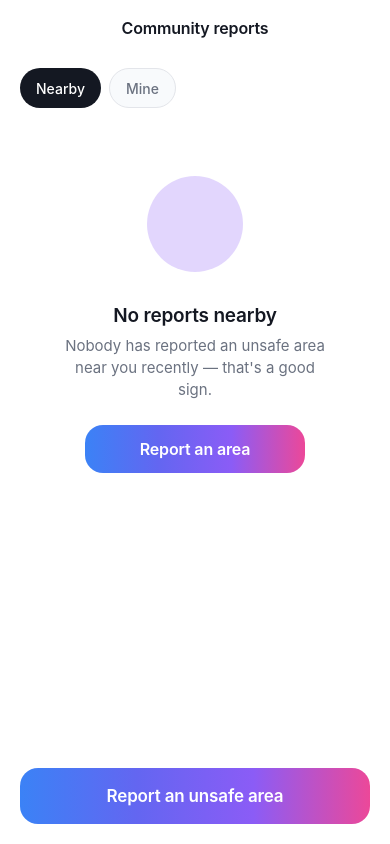
CommunityReportsScreen › switches to 'Mine' tab and loads the user's own reports
Expected: the text "No reports nearby" is shown, [113,304,277,327]
Click the text "Mine".
click(142, 88)  # box [126,80,159,96]
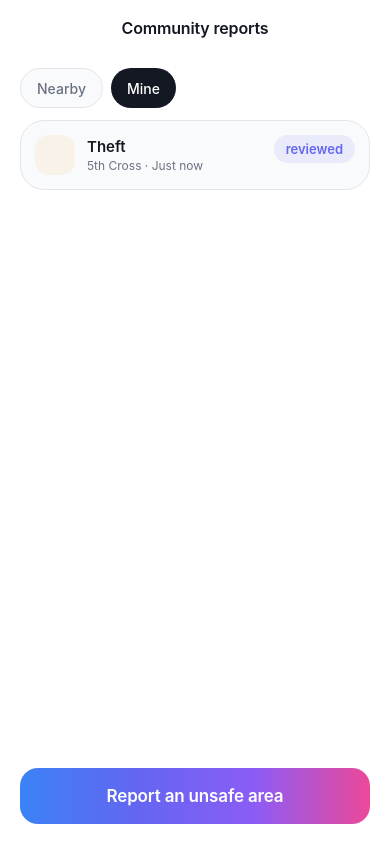
Result: the text "Theft" is shown at [87,137,126,156]
Result: the text "reviewed" is shown at [286,141,343,157]
